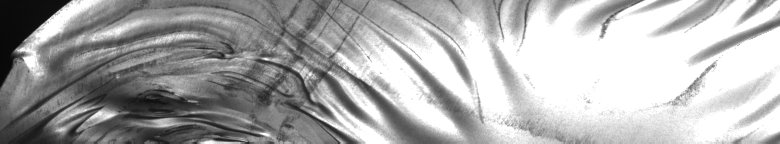ke: (21, 0, 528, 144)
